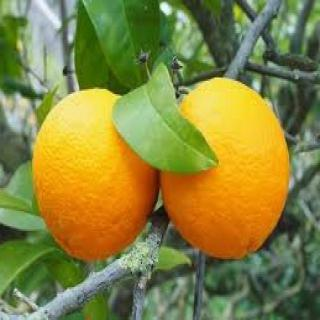orange: (159, 58, 297, 268), (28, 65, 164, 277)
